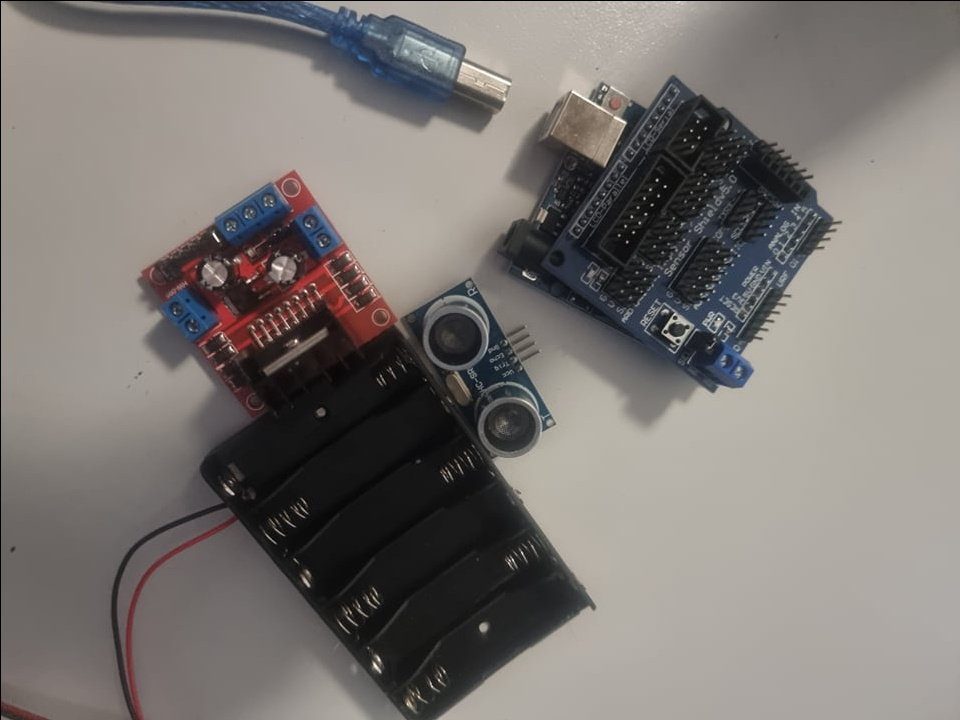5V EXPANSION: (620, 68, 845, 393)
BATTERY BOX: (192, 380, 593, 719)
MOTOR: (137, 162, 396, 423)
SENSOR: (406, 277, 554, 456)
UNO R3: (486, 30, 620, 275)
